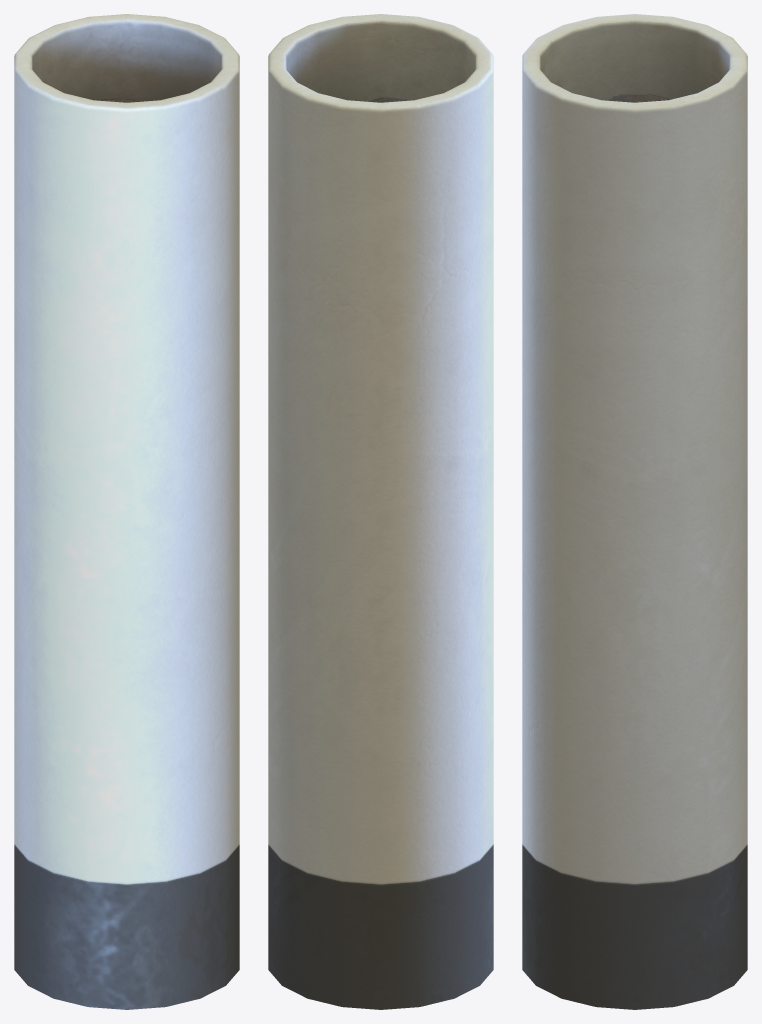
The model's file is geco_growth_vase.glb.
3 renders of one model, left to right at view 1: azimuth 30°, elevation 25°; view 2: azimuth 150°, elevation 25°; view 3: azimuth 270°, elevation 25°, orthographic.
Visible parts, largest first — view 1: Object052; view 2: Object052; view 3: Object052.
Boxes of the visible parts, left/top/right/bottom form: Object052: left=14, top=14, right=239, bottom=1009; Object052: left=268, top=14, right=493, bottom=1009; Object052: left=522, top=14, right=747, bottom=1009.
Bounding box in the file's own units: 0.044 × 0.1912 × 0.0433.
Materials: 2 (2 with a texture image).
